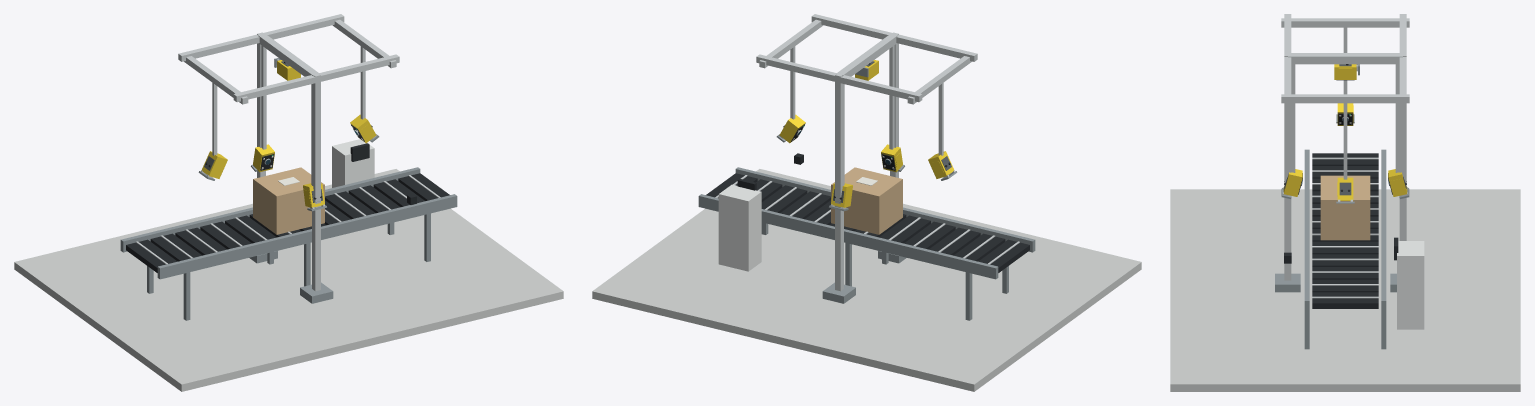
3 views of the same model, side by side, from view 1: azimuth 30°, elevation 25°; view 2: azimuth 150°, elevation 25°; view 3: azimuth 270°, elevation 25° (orthographic). The views are drawn at different scales.
Visible parts, largest first — view 1: Floor, Conveyor side rail, Parcel, Extrusion upright, Conveyor side rail.001, Longitudinal top frame, Control cabinet, Longitudinal top frame.001, Overhead crossbeam, Cross-belt sorter carrier, Cross-belt sorter carrier.001, Cross-belt sorter carrier.009 (+10 smaller); view 2: Floor, Conveyor side rail.001, Control cabinet, Parcel, Extrusion upright.001, Conveyor side rail, Longitudinal top frame.001, Longitudinal top frame, Overhead crossbeam, Cross-belt sorter carrier, Cross-belt sorter carrier.001, Cross-belt sorter carrier.002 (+8 smaller); view 3: Floor, Parcel, Control cabinet, Overhead crossbeam, Extrusion upright, End-face sensor bracket, End-face sensor bracket.001, Cross-belt sorter carrier.011, Conveyor side rail, Conveyor side rail.001, Extrusion upright.001, Cross-belt sorter carrier.007 (+13 smaller).
Part boxes in pixels (left/top/right/bottom): Floor: left=14, top=169, right=563, bottom=391; Conveyor side rail: left=157, top=194, right=457, bottom=279; Parcel: left=253, top=167, right=324, bottom=234; Extrusion upright: left=312, top=74, right=320, bottom=291; Conveyor side rail.001: left=120, top=167, right=420, bottom=252; Longitudinal top frame: left=233, top=54, right=399, bottom=102; Control cabinet: left=332, top=139, right=374, bottom=187; Longitudinal top frame.001: left=178, top=14, right=344, bottom=61; Overhead crossbeam: left=258, top=33, right=319, bottom=76; Cross-belt sorter carrier: left=126, top=239, right=177, bottom=272; Cross-belt sorter carrier.001: left=150, top=233, right=201, bottom=261; Cross-belt sorter carrier.009: left=348, top=185, right=400, bottom=213; Floor: left=592, top=169, right=1141, bottom=391; Conveyor side rail.001: left=698, top=194, right=998, bottom=279; Control cabinet: left=718, top=184, right=761, bottom=271; Parcel: left=831, top=167, right=902, bottom=234; Extrusion upright.001: left=835, top=74, right=843, bottom=291; Conveyor side rail: left=735, top=167, right=1035, bottom=252; Longitudinal top frame.001: left=756, top=54, right=922, bottom=102; Longitudinal top frame: left=811, top=14, right=977, bottom=61; Overhead crossbeam: left=836, top=33, right=897, bottom=76; Cross-belt sorter carrier: left=978, top=239, right=1029, bottom=272; Cross-belt sorter carrier.001: left=954, top=233, right=1005, bottom=261; Cross-belt sorter carrier.002: left=929, top=227, right=980, bottom=255; Floor: left=1170, top=189, right=1520, bottom=391; Parcel: left=1320, top=175, right=1370, bottom=240; Control cabinet: left=1397, top=241, right=1424, bottom=329; Overhead crossbeam: left=1288, top=53, right=1402, bottom=64; Extrusion upright: left=1284, top=53, right=1291, bottom=280; End-face sensor bracket: left=1281, top=18, right=1409, bottom=27; End-face sensor bracket.001: left=1281, top=94, right=1409, bottom=103; Cross-belt sorter carrier.011: left=1312, top=292, right=1378, bottom=308; Conveyor side rail: left=1304, top=149, right=1309, bottom=312; Conveyor side rail.001: left=1381, top=149, right=1386, bottom=312; Extrusion upright.001: left=1399, top=53, right=1406, bottom=240; Cross-belt sorter carrier.007: left=1312, top=241, right=1378, bottom=254.
Size of the model in its own units: 5.4 by 3.1 by 4.1.
